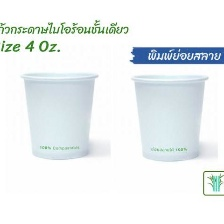paper_cup: (15, 65, 102, 163), (127, 68, 211, 165)
